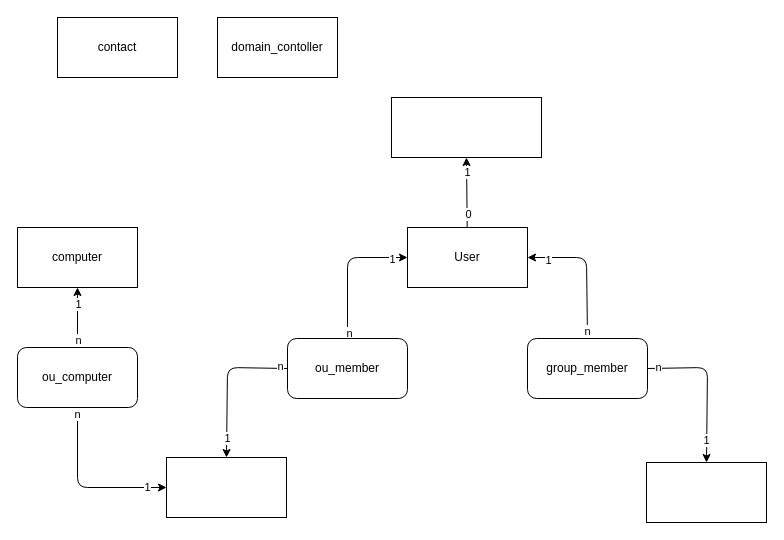
The diagram is 784 pixels wide and 540 high, and some of its shapes have lost their labels. Each missing label, with the centre of its shape:
group: the point at 706,492
ou: the point at 226,487
user_account_control: the point at 466,127
